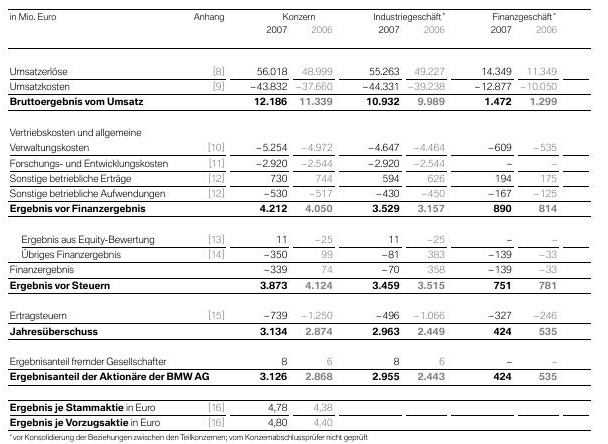table: (0, 0, 608, 444)
